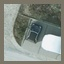car: (26, 22, 43, 43)
